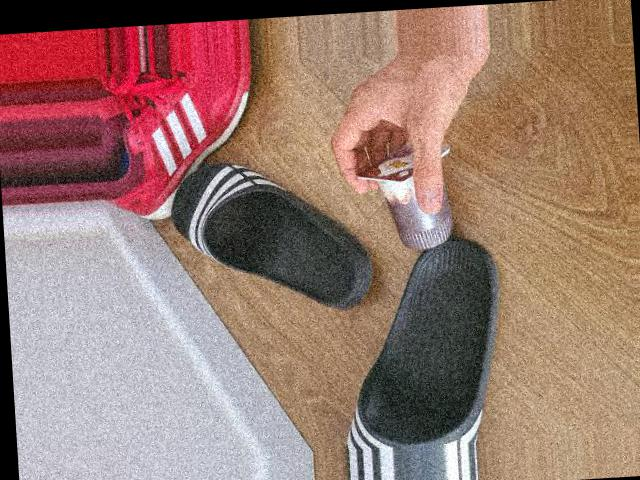milky: (357, 140, 458, 257)
